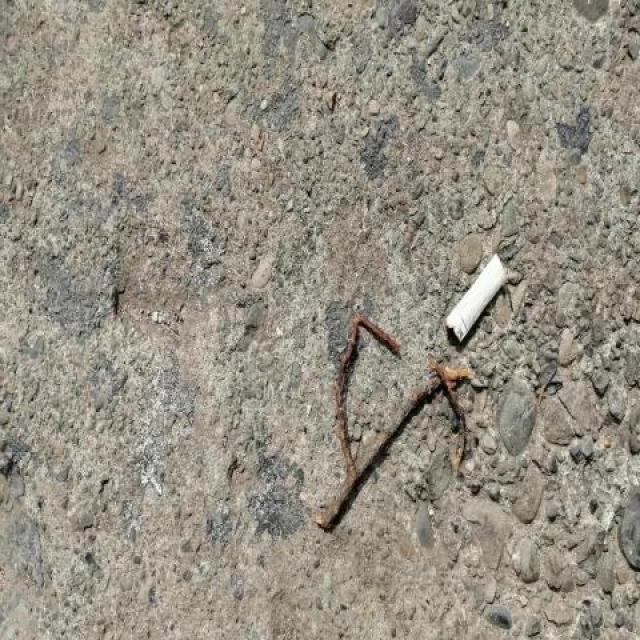non-organic waste: (439, 247, 513, 352)
